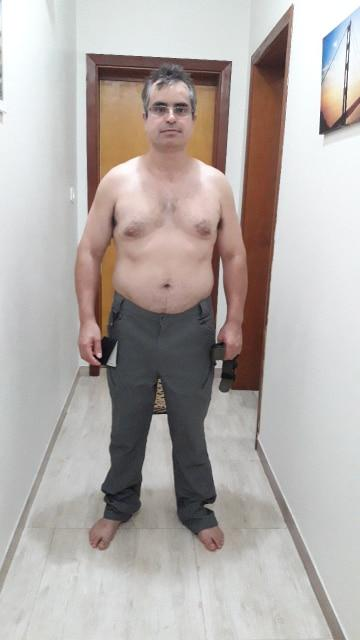pants: (102, 295, 223, 530)
